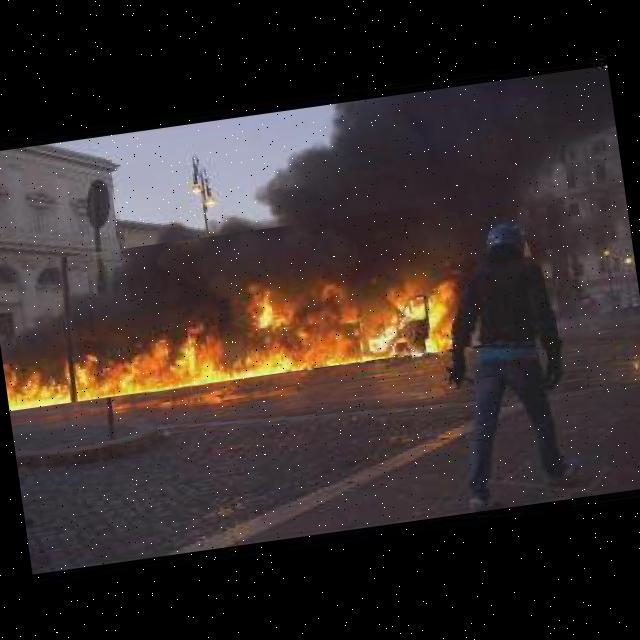fire: (0, 199, 492, 411)
